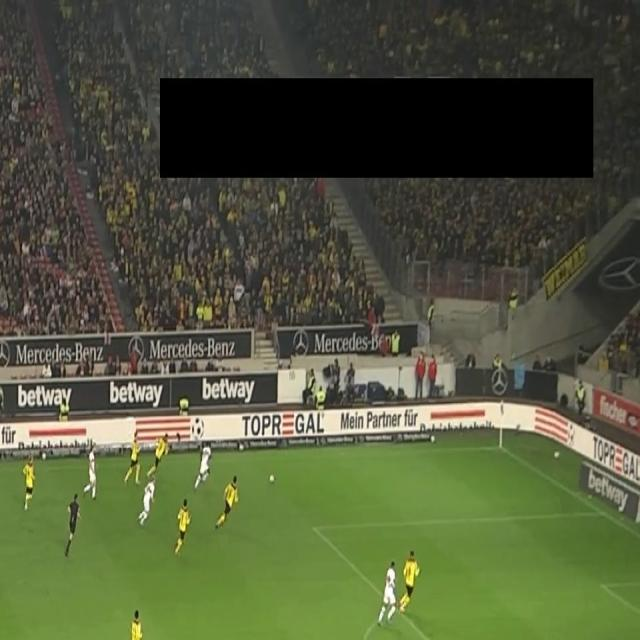ball: (268, 472, 276, 485)
